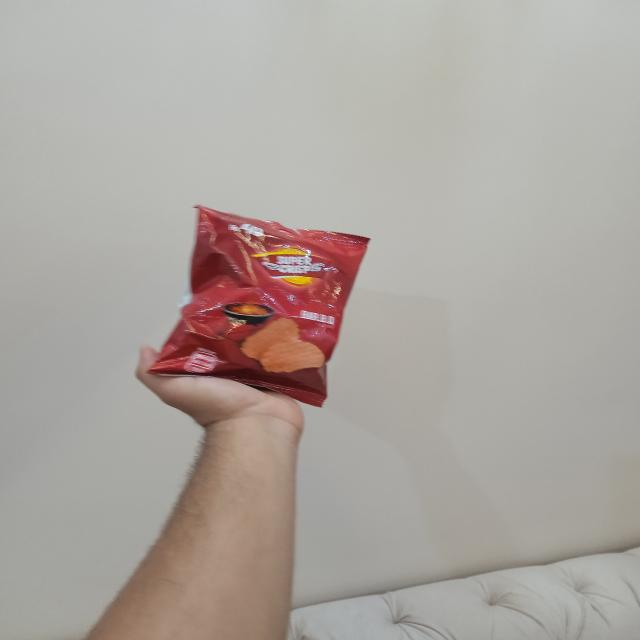Plastic: (146, 198, 376, 411)
